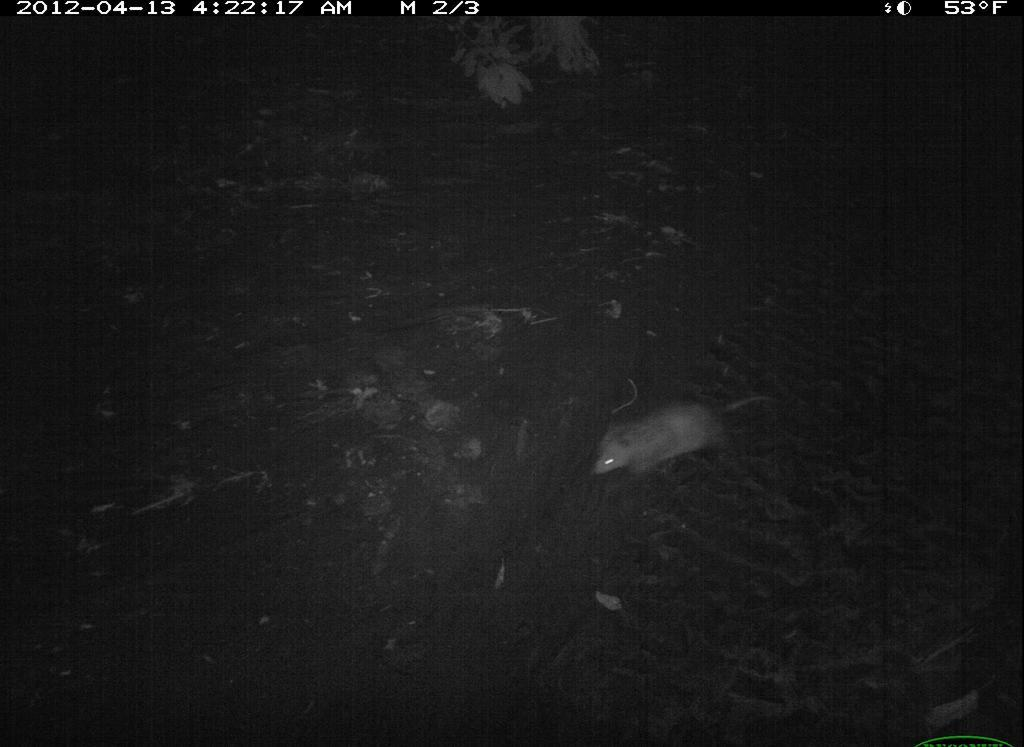opossum: (591, 384, 777, 491)
